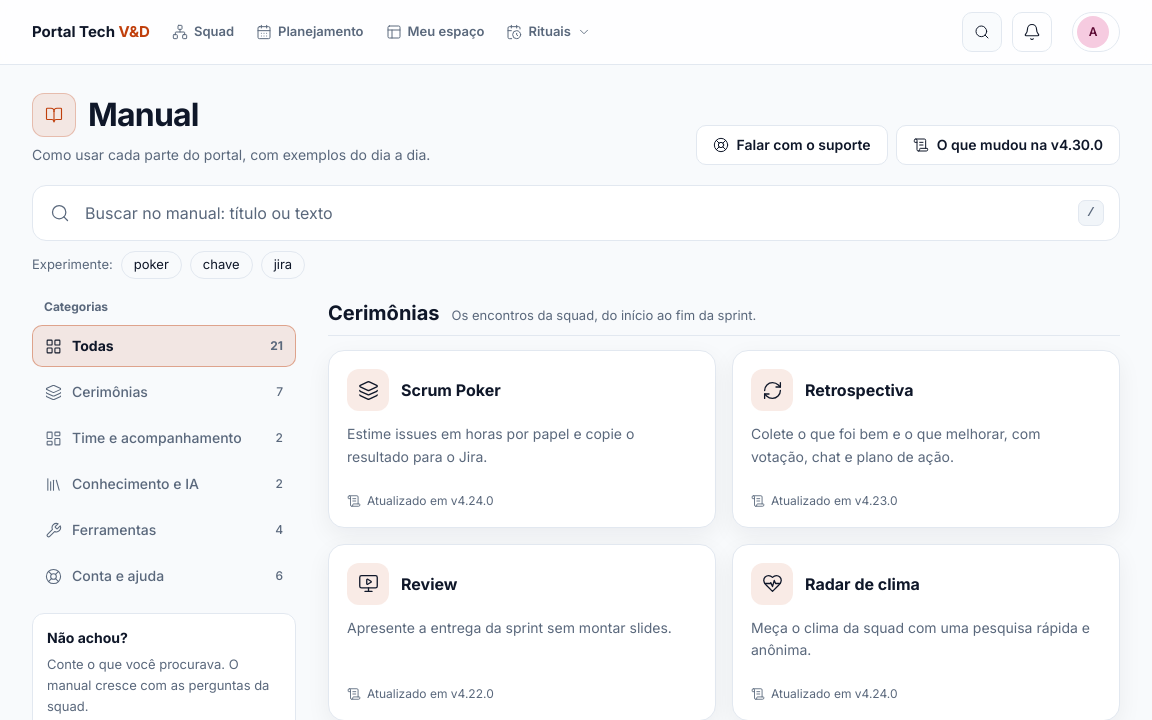
it: índice do Manual › busca sem resultado mostra "Nada encontrado" e o botão limpa a busca
This screenshot has width=1152, height=720.
Type "reembolso" into the search field named "Buscar no manual" at (576, 213), box [32,185,1120,241]
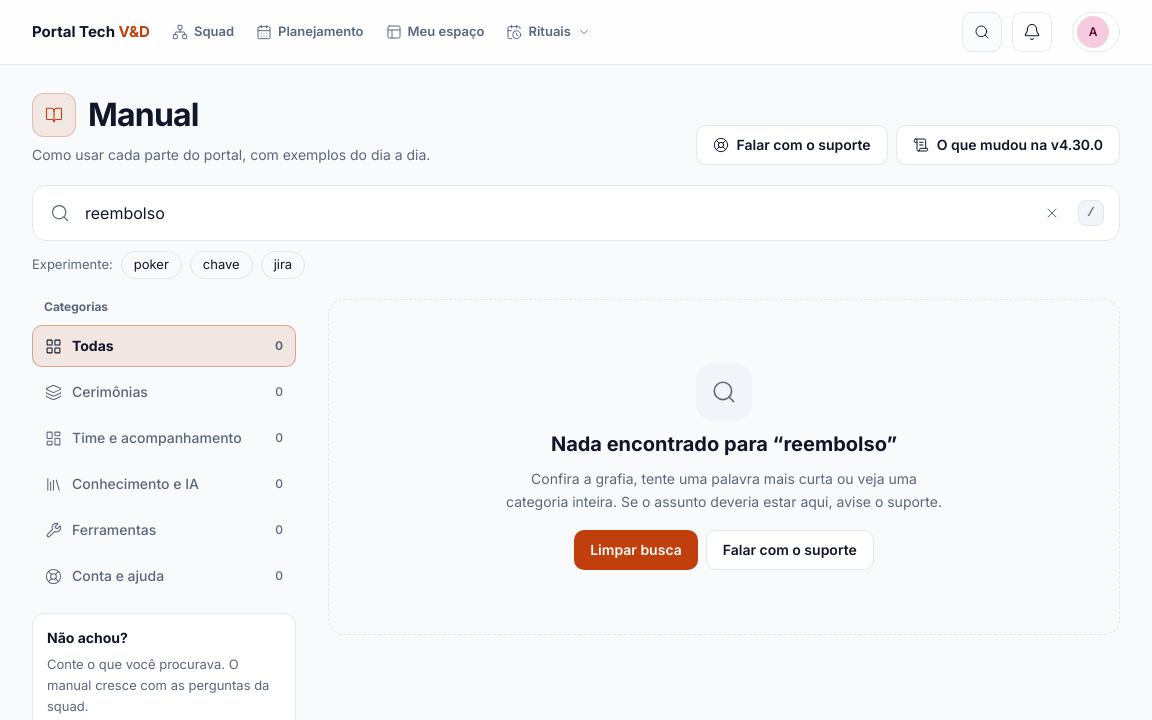
Expected: the heading "Nada encontrado para “reembolso”" is shown, [551,430,897,458]
Click the button named "Limpar busca" at (1052, 213), box [1036,197,1068,229]
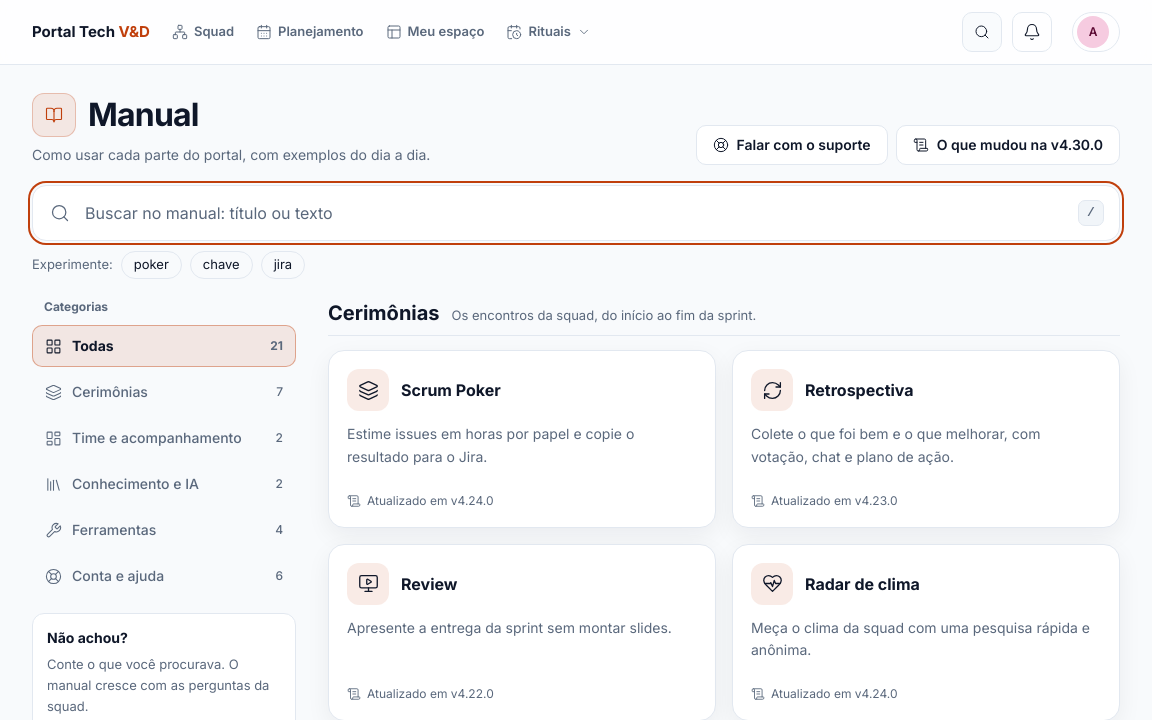
Expected: the search field named "Buscar no manual" is empty, [32,185,1120,241]
Expected: the heading "Cerimônias" is shown, [328,299,440,327]
